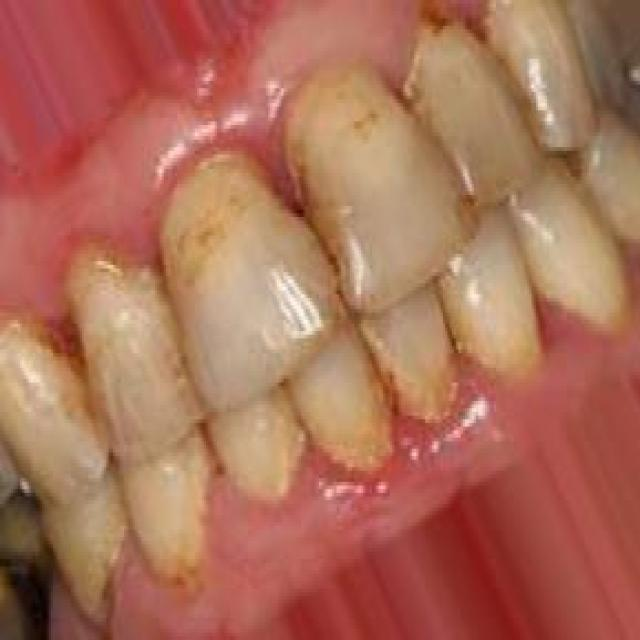calculus: (168, 155, 318, 398), (288, 51, 430, 300), (72, 208, 167, 463), (411, 11, 513, 210), (0, 306, 91, 512), (444, 218, 538, 392), (380, 280, 458, 450), (210, 394, 312, 518), (308, 334, 390, 481), (510, 0, 581, 142)
